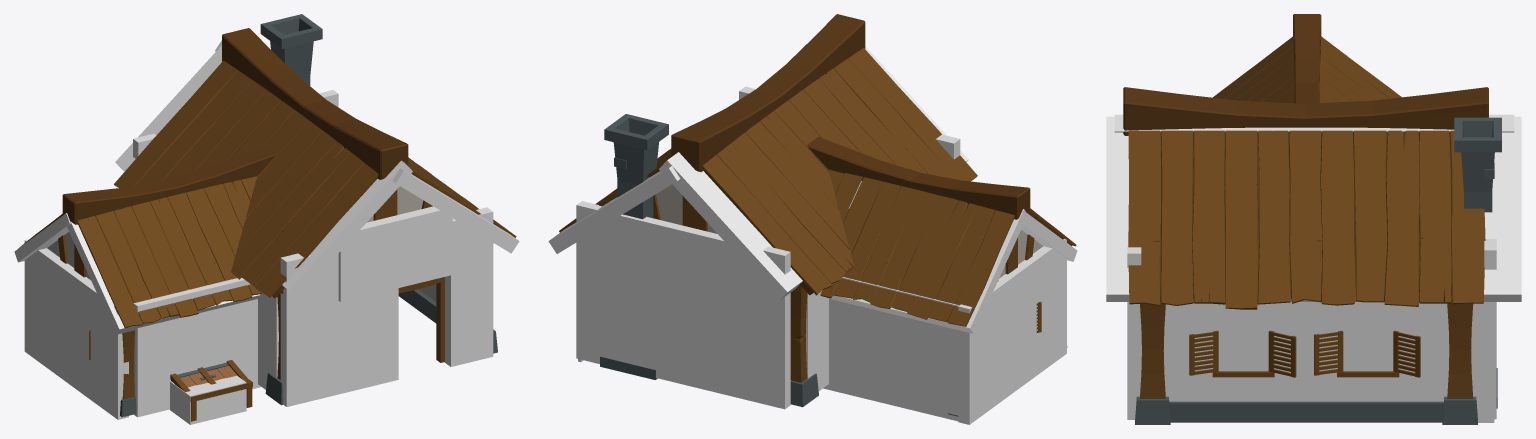
Rendered from house_4.glb.
The picture shows the model from 3 angles, left to right: view 1: azimuth 30°, elevation 25°; view 2: azimuth 150°, elevation 25°; view 3: azimuth 270°, elevation 25°; orthographic projection. The views are drawn at different scales.
Visible parts, largest first — view 1: House_04, Cube.003, Cube.009, Cube.013, Cube.002, Cube.007, Cube.006, Cube.014, Cube.005, Cube.010, Cube, Cube.011 (+1 smaller); view 2: House_04, Cube.004, Cube.009, Cube.012, Cube.006, Cube.005, Cube.011, Cube.008, Cube.010; view 3: House_04, Cube.001, Cube.005, Cube.004, Cube.006, Cube.007.
Boxes of the visible parts, x1,y1,x2,y2 form: House_04: [18, 14, 516, 421]; Cube.003: [280, 253, 398, 406]; Cube.009: [24, 239, 128, 419]; Cube.013: [133, 277, 261, 417]; Cube.002: [338, 206, 452, 301]; Cube.007: [445, 207, 493, 366]; Cube.006: [115, 45, 412, 297]; Cube.014: [170, 375, 246, 424]; Cube.005: [215, 40, 519, 253]; Cube.010: [67, 221, 260, 334]; Cube: [258, 293, 278, 389]; Cube.011: [14, 213, 70, 262]; House_04: [559, 14, 1076, 416]; Cube.004: [576, 201, 790, 409]; Cube.009: [958, 238, 1066, 424]; Cube.012: [823, 277, 958, 421]; Cube.006: [659, 46, 968, 300]; Cube.005: [548, 166, 680, 253]; Cube.011: [826, 181, 1027, 333]; Cube.008: [805, 291, 828, 390]; Cube.010: [1021, 213, 1077, 261]; House_04: [1123, 14, 1501, 424]; Cube.001: [1136, 302, 1494, 422]; Cube.005: [1106, 116, 1521, 301]; Cube.004: [1484, 239, 1496, 419]; Cube.006: [1114, 114, 1514, 132]; Cube.007: [1127, 245, 1141, 419].
Bounding box in the file's own units: 10.17 × 6.22 × 8.51.
Materials: 1 (1 with a texture image).
